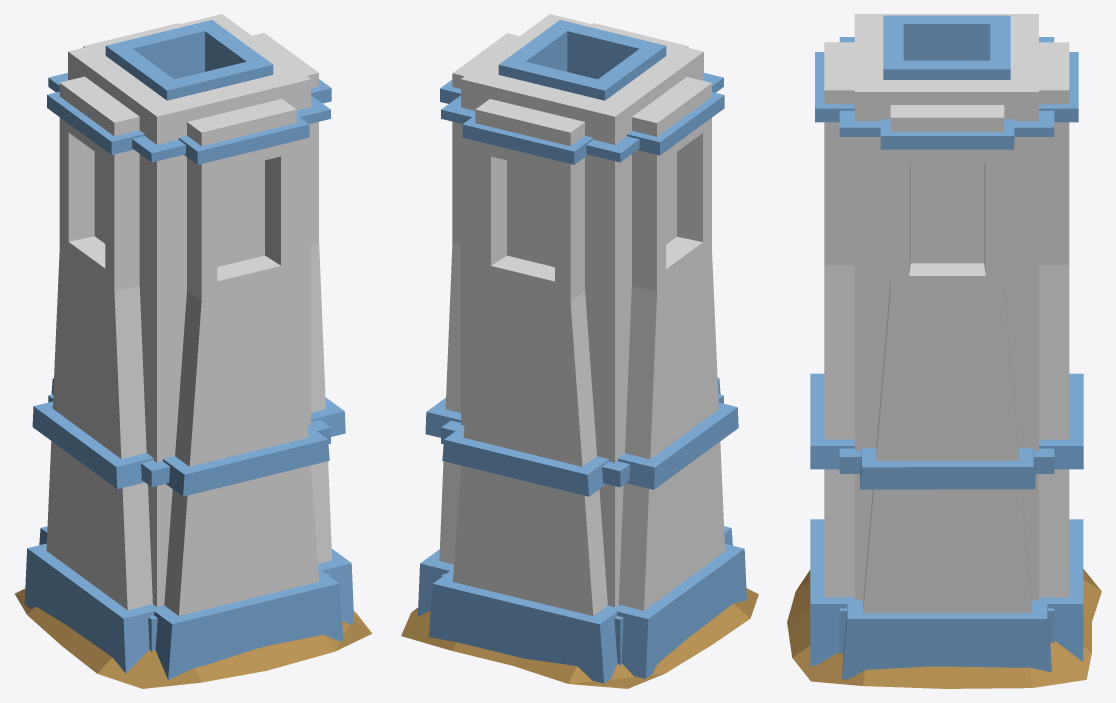
Rendered from StoneColumnBox.fbx.
3 renders of one model, left to right at view 1: azimuth 30°, elevation 25°; view 2: azimuth 150°, elevation 25°; view 3: azimuth 270°, elevation 25°, orthographic. The views are drawn at different scales.
Parts seen in each view (by area): view 1: tower; view 2: tower; view 3: tower.
Boxes of the visible parts, bbox=[...] form: tower: bbox=[14, 14, 372, 688]; tower: bbox=[401, 14, 758, 688]; tower: bbox=[787, 14, 1101, 688].
Size of the model in its own units: 256 by 521 by 256.
